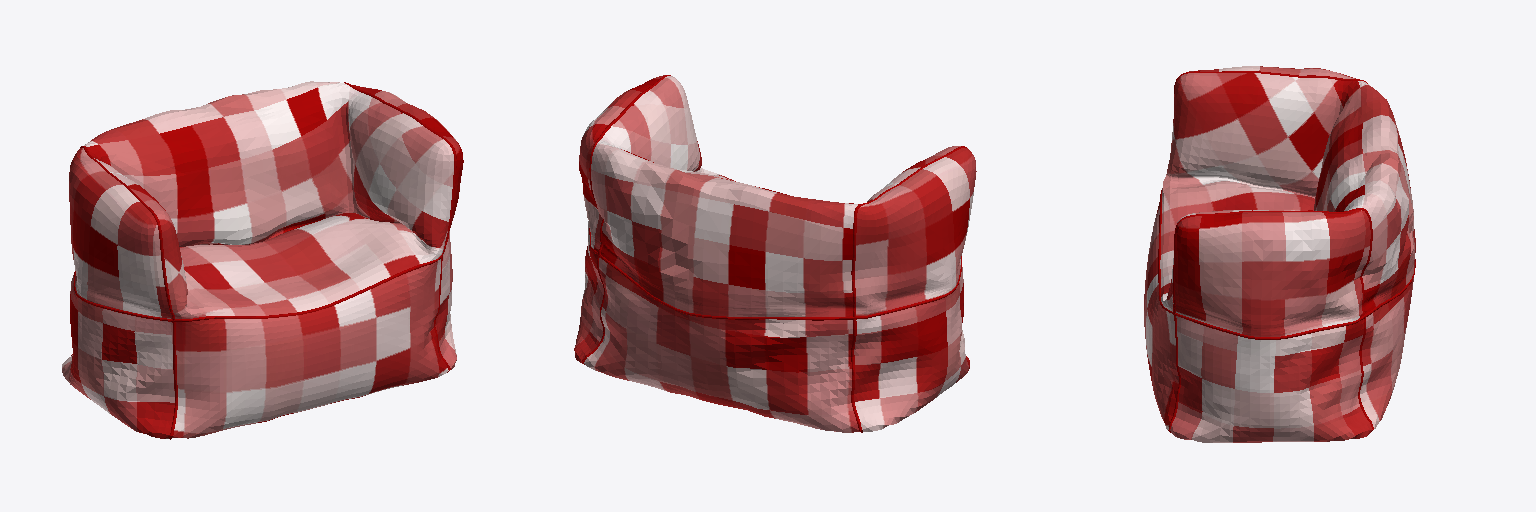
3 views of the same model, side by side, from view 1: azimuth 30°, elevation 25°; view 2: azimuth 150°, elevation 25°; view 3: azimuth 270°, elevation 25° (orthographic).
Visible parts, largest first — view 1: bag_chair; view 2: bag_chair; view 3: bag_chair.
Part boxes in pixels (x1,y1,x2,y2): bag_chair: (62,81,463,439); bag_chair: (574,75,976,432); bag_chair: (1144,66,1415,442).
Size of the model in its own units: 0.9442 by 0.5799 by 0.6182.
1 materials, 1 textured.